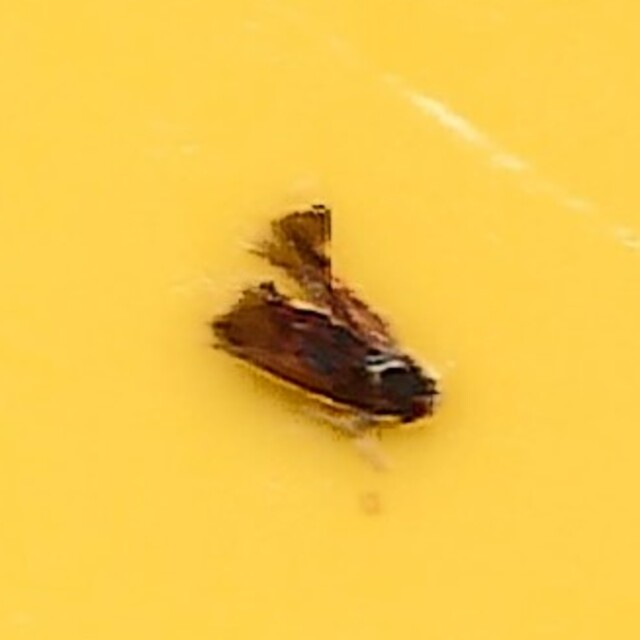Hemiptera: (196, 203, 444, 437)
